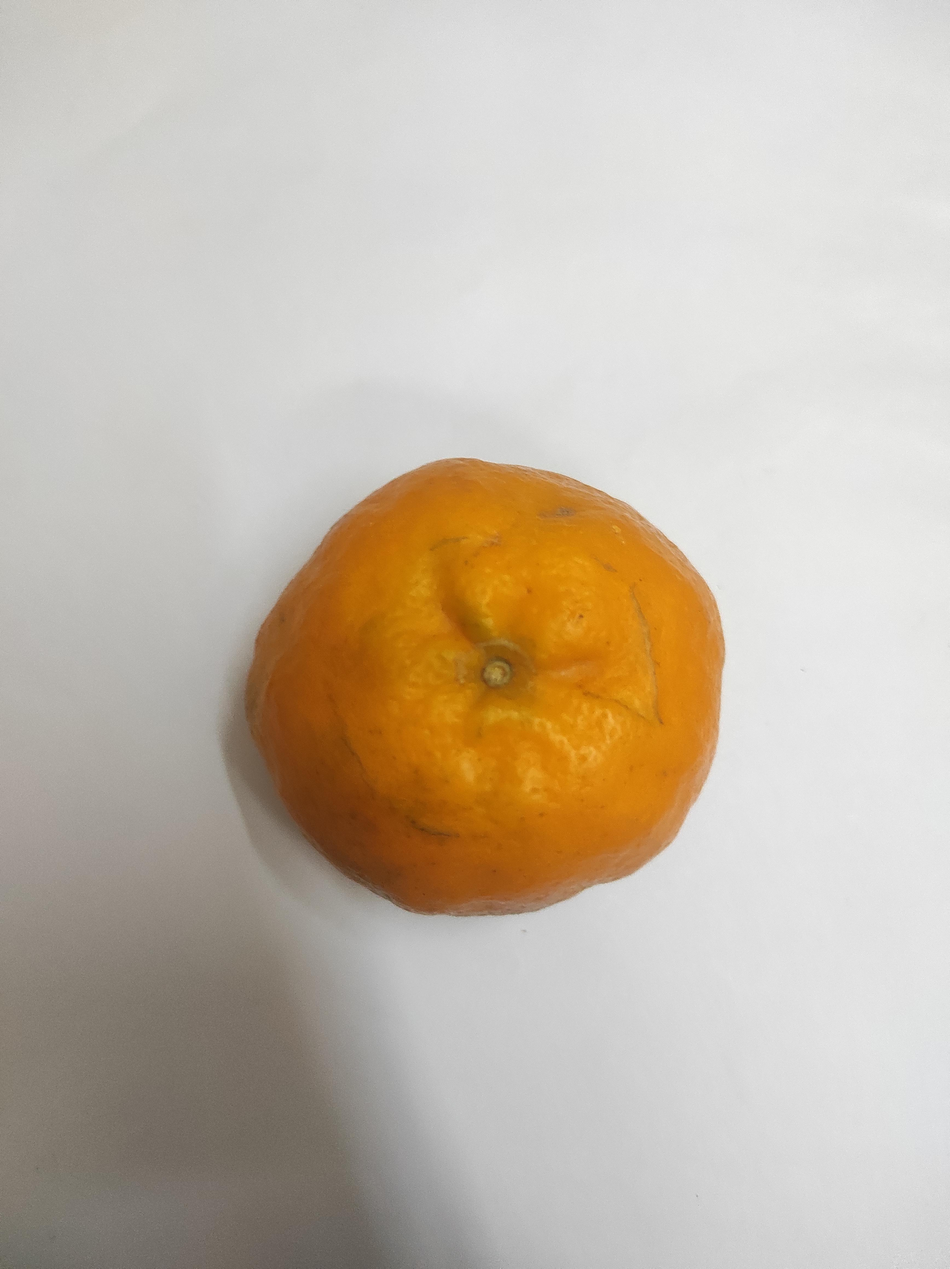Orange Ripe: (180, 618, 547, 1225)
